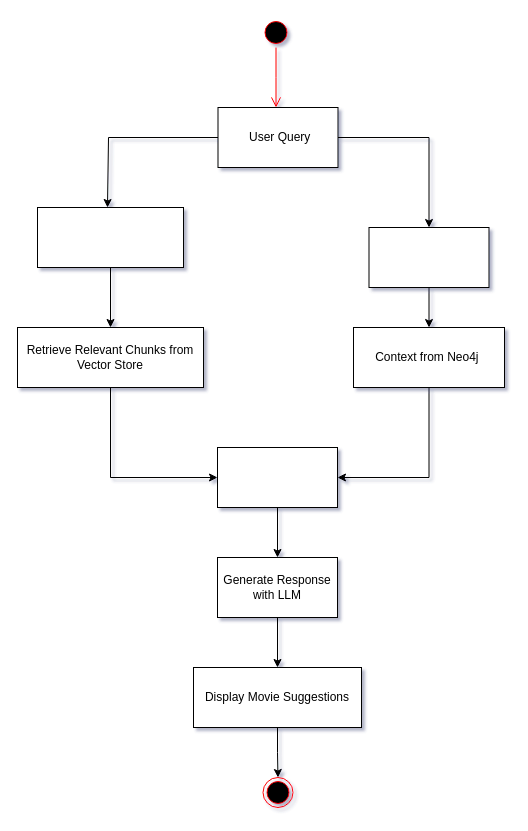
Image size: 528x831. Some labels were removed from this diagram. The centre of each missing label's shape, as x and y in pixels:
Marging Algorithm: point (277, 477)
Retrieve from Neo4j: point (428, 257)
User Query Embedding: point (110, 237)
